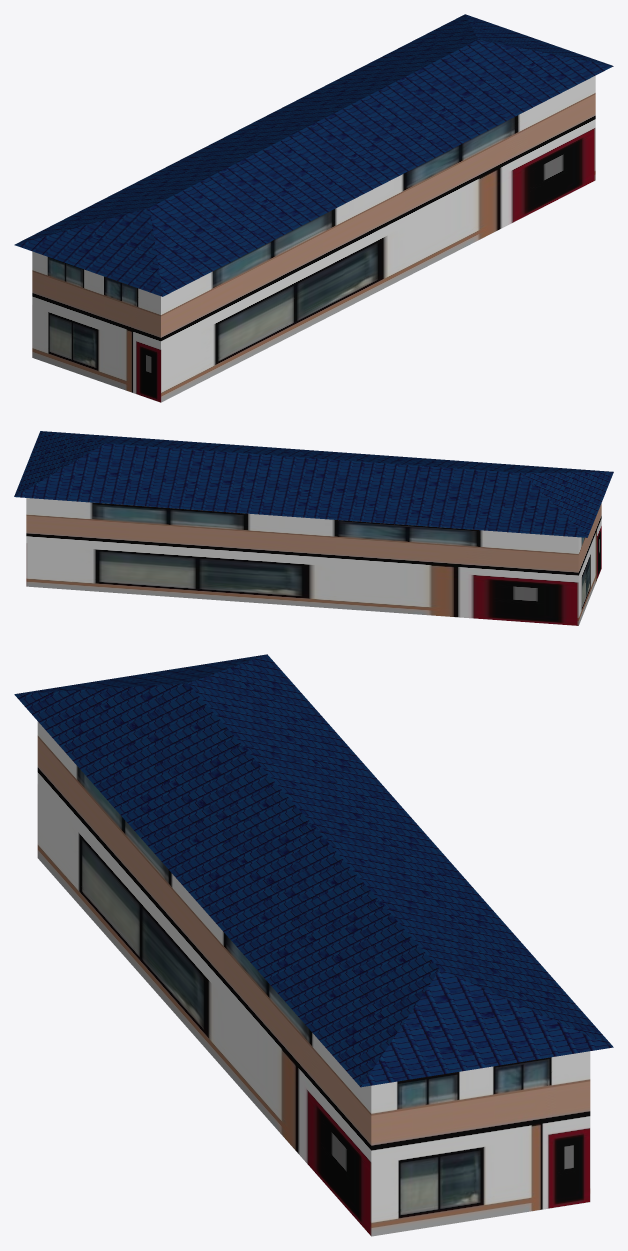
3 renders of one model, top to bottom at view 1: azimuth 30°, elevation 25°; view 2: azimuth 150°, elevation 25°; view 3: azimuth 270°, elevation 25°, orthographic. The views are drawn at different scales.
Visible parts, largest first — view 1: CityEngineMaterial_5_m, CityEngineMaterial_6_m; view 2: CityEngineMaterial_5_m, CityEngineMaterial_6_m; view 3: CityEngineMaterial_6_m, CityEngineMaterial_5_m.
Boxes of the visible parts, box(x1,y1,x2,y2) form: CityEngineMaterial_5_m: box(32, 75, 595, 402); CityEngineMaterial_6_m: box(14, 14, 613, 296); CityEngineMaterial_5_m: box(26, 498, 601, 625); CityEngineMaterial_6_m: box(14, 431, 613, 537); CityEngineMaterial_6_m: box(14, 654, 613, 1087); CityEngineMaterial_5_m: box(37, 721, 590, 1236).
Size of the model in its own units: 52.35 by 11.49 by 30.65.
